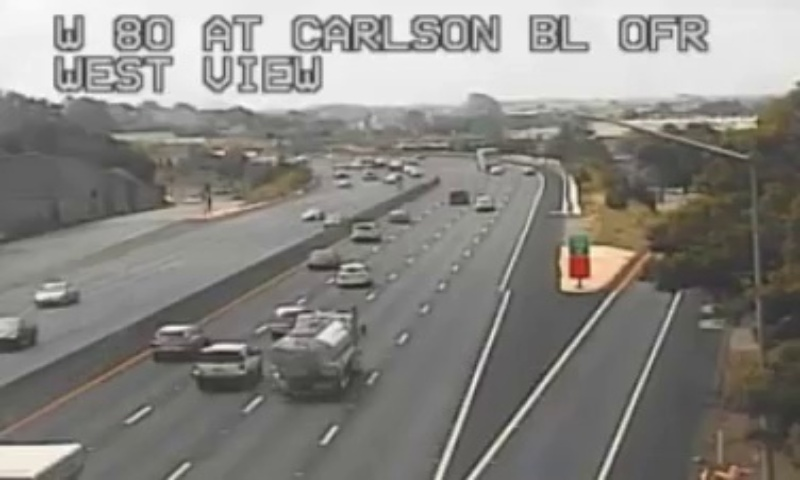car: (193, 342, 261, 382), (151, 323, 202, 355), (336, 263, 368, 285), (348, 221, 378, 240), (308, 249, 338, 267)
tank-truck: (274, 308, 357, 396)
